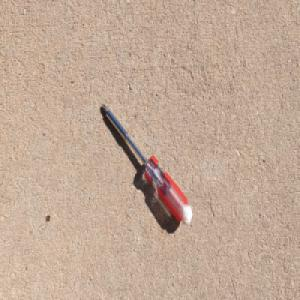Screwdriver: (99, 99, 193, 228)
